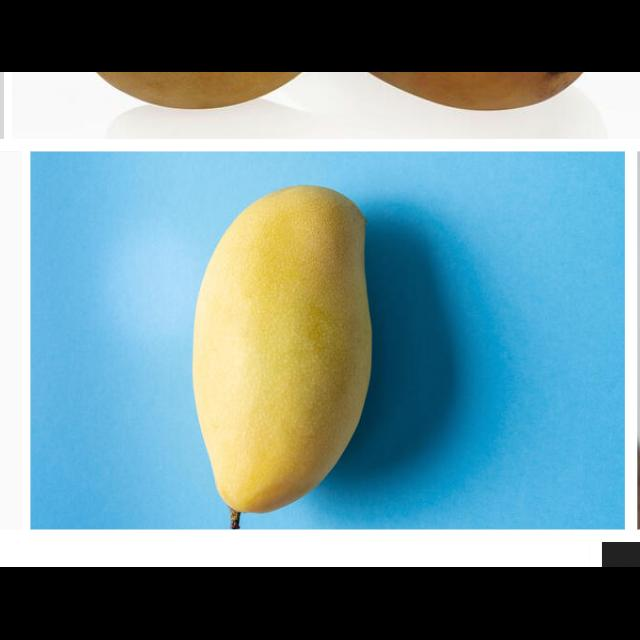mango: (190, 184, 373, 510)
